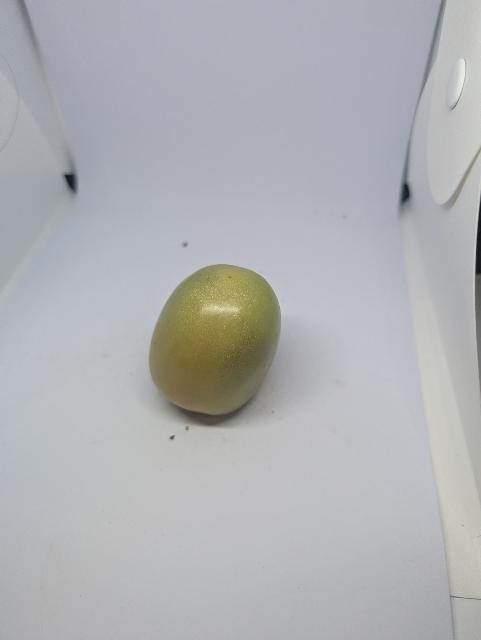breaker: (150, 265, 281, 415)
